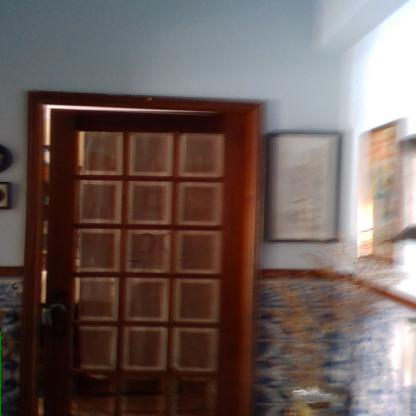door: (49, 110, 240, 415)
knob: (50, 304, 67, 320)
